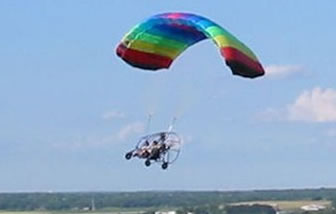Paraglider: (108, 6, 278, 83)
